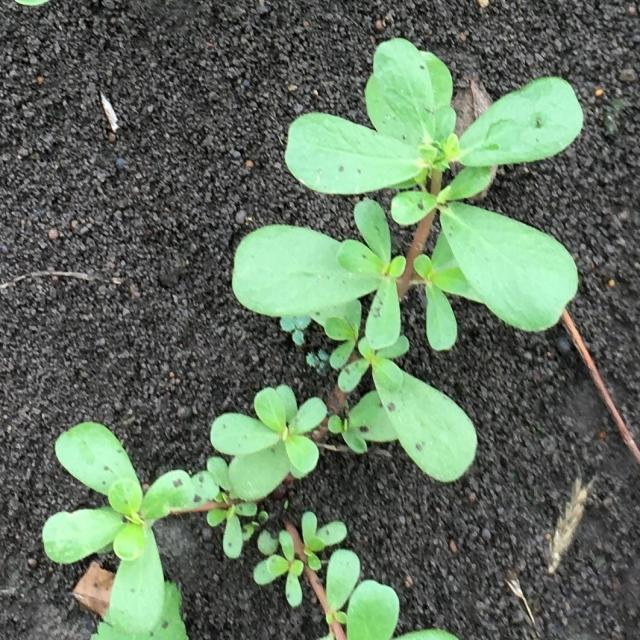Purslane: (41, 38, 584, 640)
